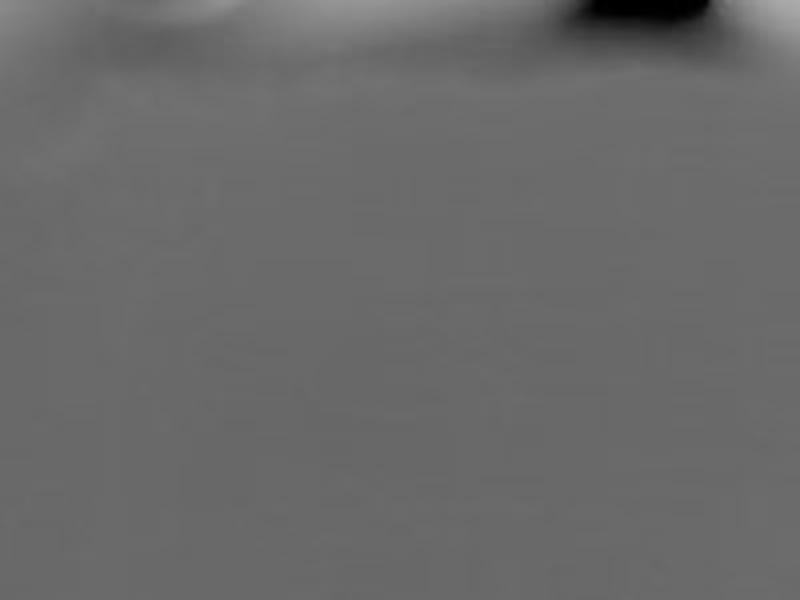defect: (579, 1, 715, 33)
